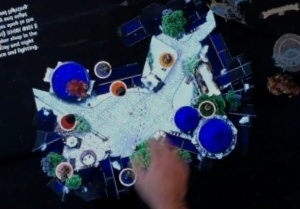blue: (115, 164, 139, 189)
green: (195, 96, 217, 119)
orange: (105, 77, 129, 101)
pink: (51, 157, 75, 183)
red: (55, 110, 79, 133)
violet: (92, 58, 113, 80)
yellow: (155, 49, 176, 69)
